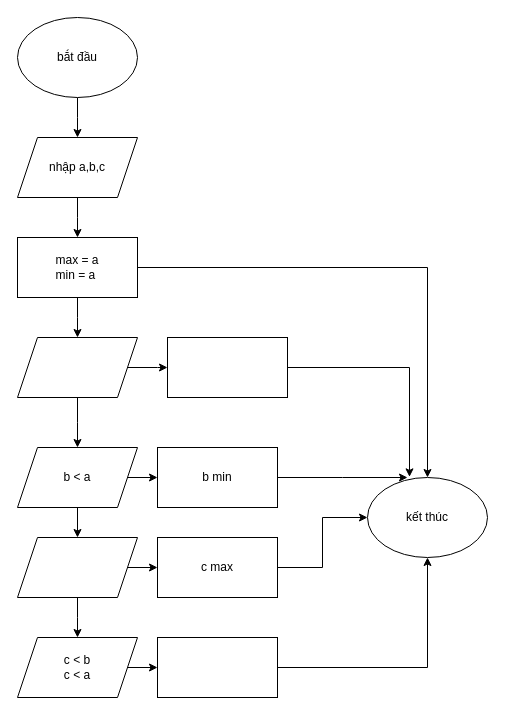
Image size: 505x715. Some labels were removed from this diagram. The centre of each missing label's shape, as x and y in pixels:
b > a: point (77, 367)
b max: point (227, 367)
c > b c > a: point (77, 567)
c min: point (217, 667)
